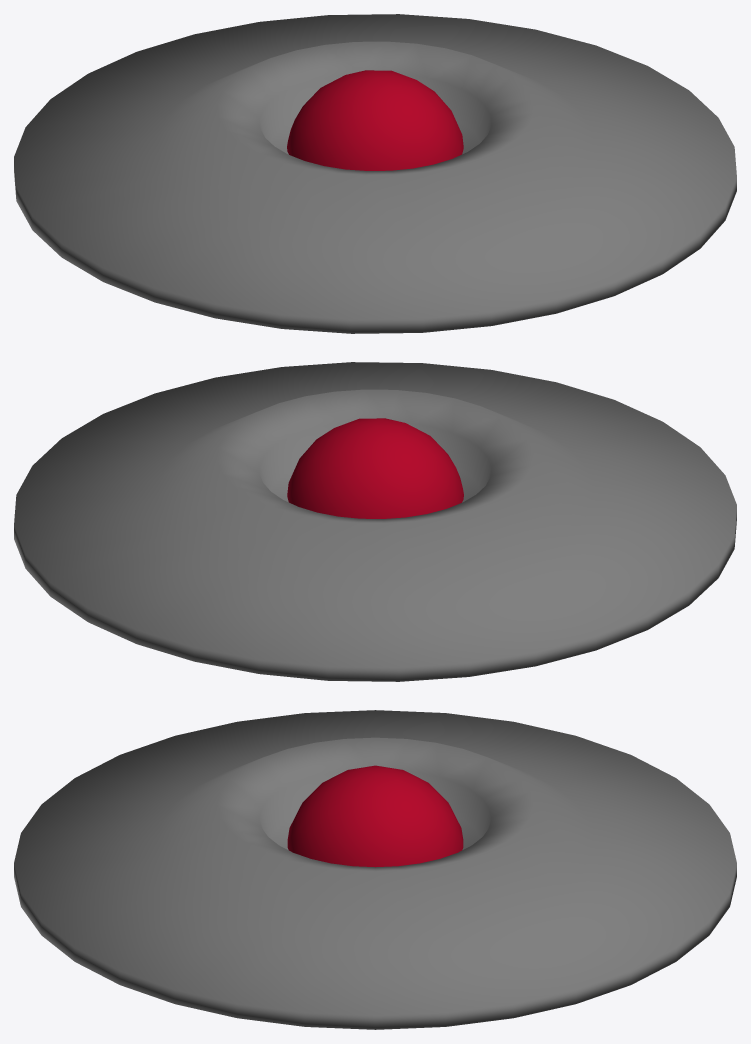
File: Toroid.fbx
3 views of the same model, one above another, from view 1: azimuth 30°, elevation 25°; view 2: azimuth 150°, elevation 25°; view 3: azimuth 270°, elevation 25° (orthographic).
Visible parts, largest first — view 1: Toroid; view 2: Toroid; view 3: Toroid.
Boxes of the visible parts, <box> form: Toroid: <box>14,14,736,333</box>; Toroid: <box>14,362,736,681</box>; Toroid: <box>14,710,736,1029</box>.
Bounding box in the file's own units: 2 × 0.5437 × 2.
